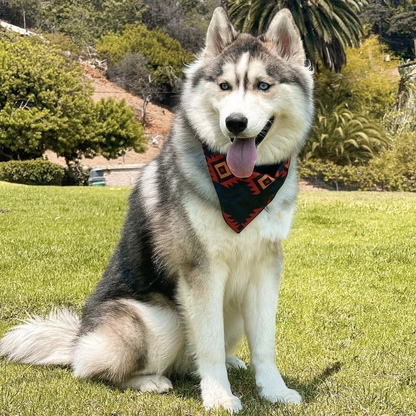husky: (2, 3, 323, 416)
